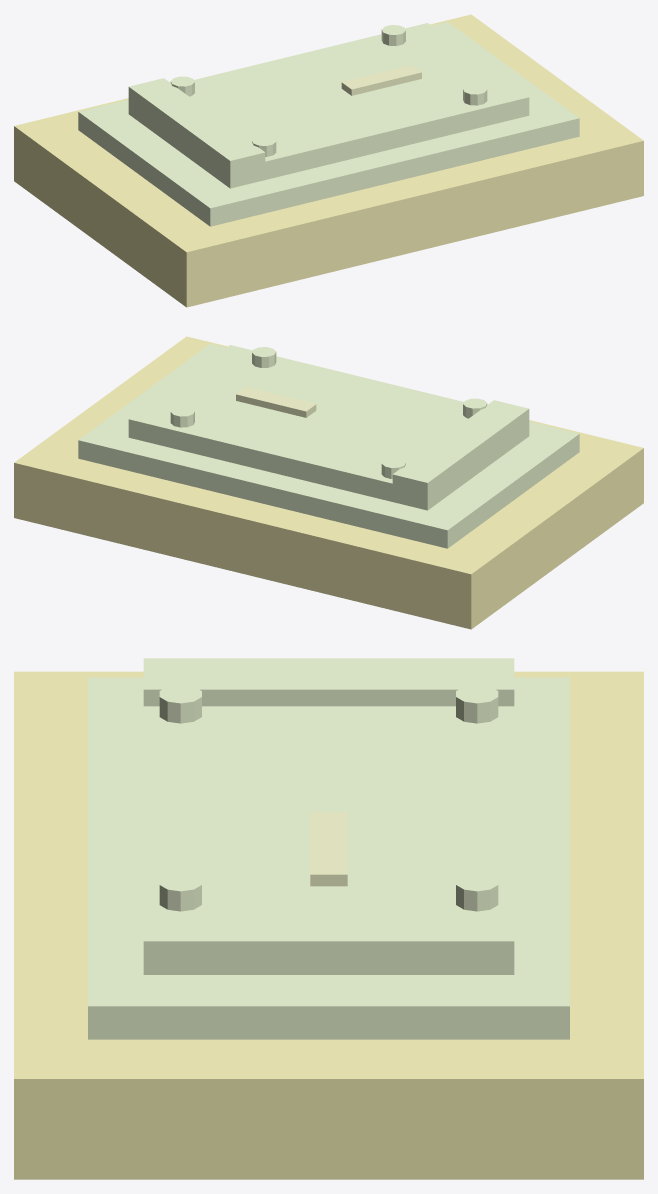
Rendered from furniture_signal_base_handhole_cover.glb.
3 renders of one model, top to bottom at view 1: azimuth 30°, elevation 25°; view 2: azimuth 150°, elevation 25°; view 3: azimuth 270°, elevation 25°, orthographic. The views are drawn at different scales.
Visible parts, largest first — view 1: collar, cover_plate, frame, hinge_lip, pull_slot, bolt_front_right, bolt_back_right; view 2: collar, cover_plate, frame, hinge_lip, pull_slot, bolt_back_right, bolt_front_right; view 3: collar, cover_plate, frame, hinge_lip, pull_slot, bolt_front_left, bolt_front_right, bolt_back_left, bolt_back_right.
Boxes of the visible parts, <box> form: collar: <box>14,14,643,307</box>; cover_plate: <box>128,23,529,188</box>; frame: <box>78,21,579,226</box>; hinge_lip: <box>128,78,265,188</box>; pull_slot: <box>341,65,421,95</box>; bolt_front_right: <box>463,84,487,105</box>; bolt_back_right: <box>381,25,405,45</box>; collar: <box>14,336,643,629</box>; cover_plate: <box>128,345,529,510</box>; frame: <box>78,343,579,548</box>; hinge_lip: <box>392,400,529,510</box>; pull_slot: <box>236,387,316,417</box>; bolt_back_right: <box>170,406,194,427</box>; bolt_front_right: <box>252,347,276,367</box>; collar: <box>14,671,643,1179</box>; cover_plate: <box>143,706,514,974</box>; frame: <box>88,677,569,1039</box>; hinge_lip: <box>143,658,514,706</box>; pull_slot: <box>310,812,347,886</box>; bolt_front_left: <box>159,684,201,723</box>; bolt_front_right: <box>159,872,201,911</box>; bolt_back_left: <box>456,684,498,723</box>; bolt_back_right: <box>456,872,498,911</box>.
Bounding box in the file's own units: 0.52 × 0.112 × 0.34.
